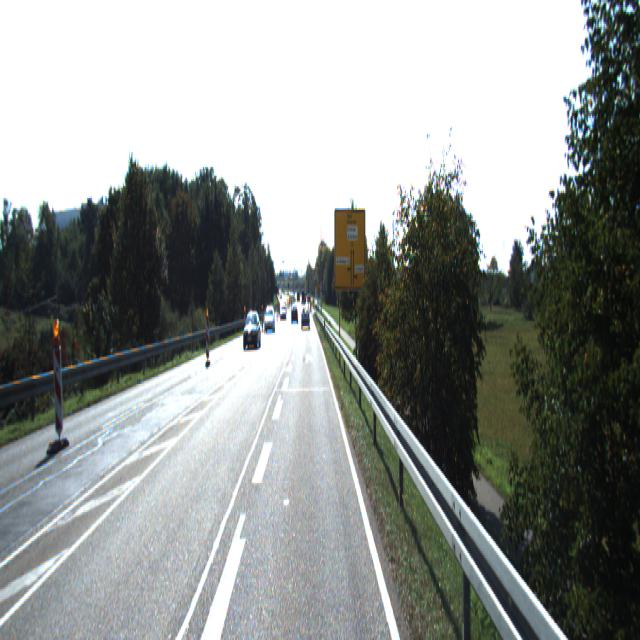Car: (243, 310, 261, 352), (263, 305, 275, 333), (302, 308, 310, 330)
